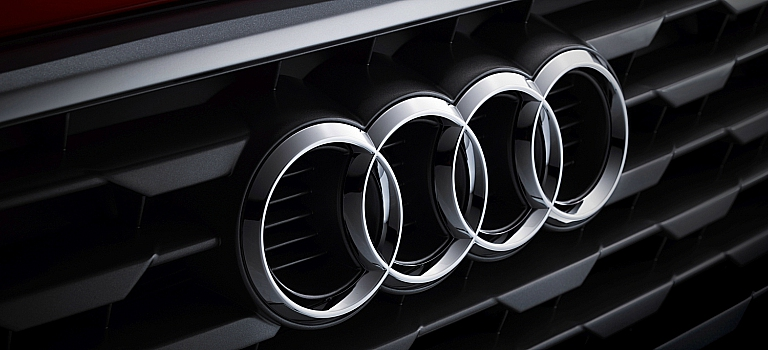audi: (212, 31, 633, 336)
